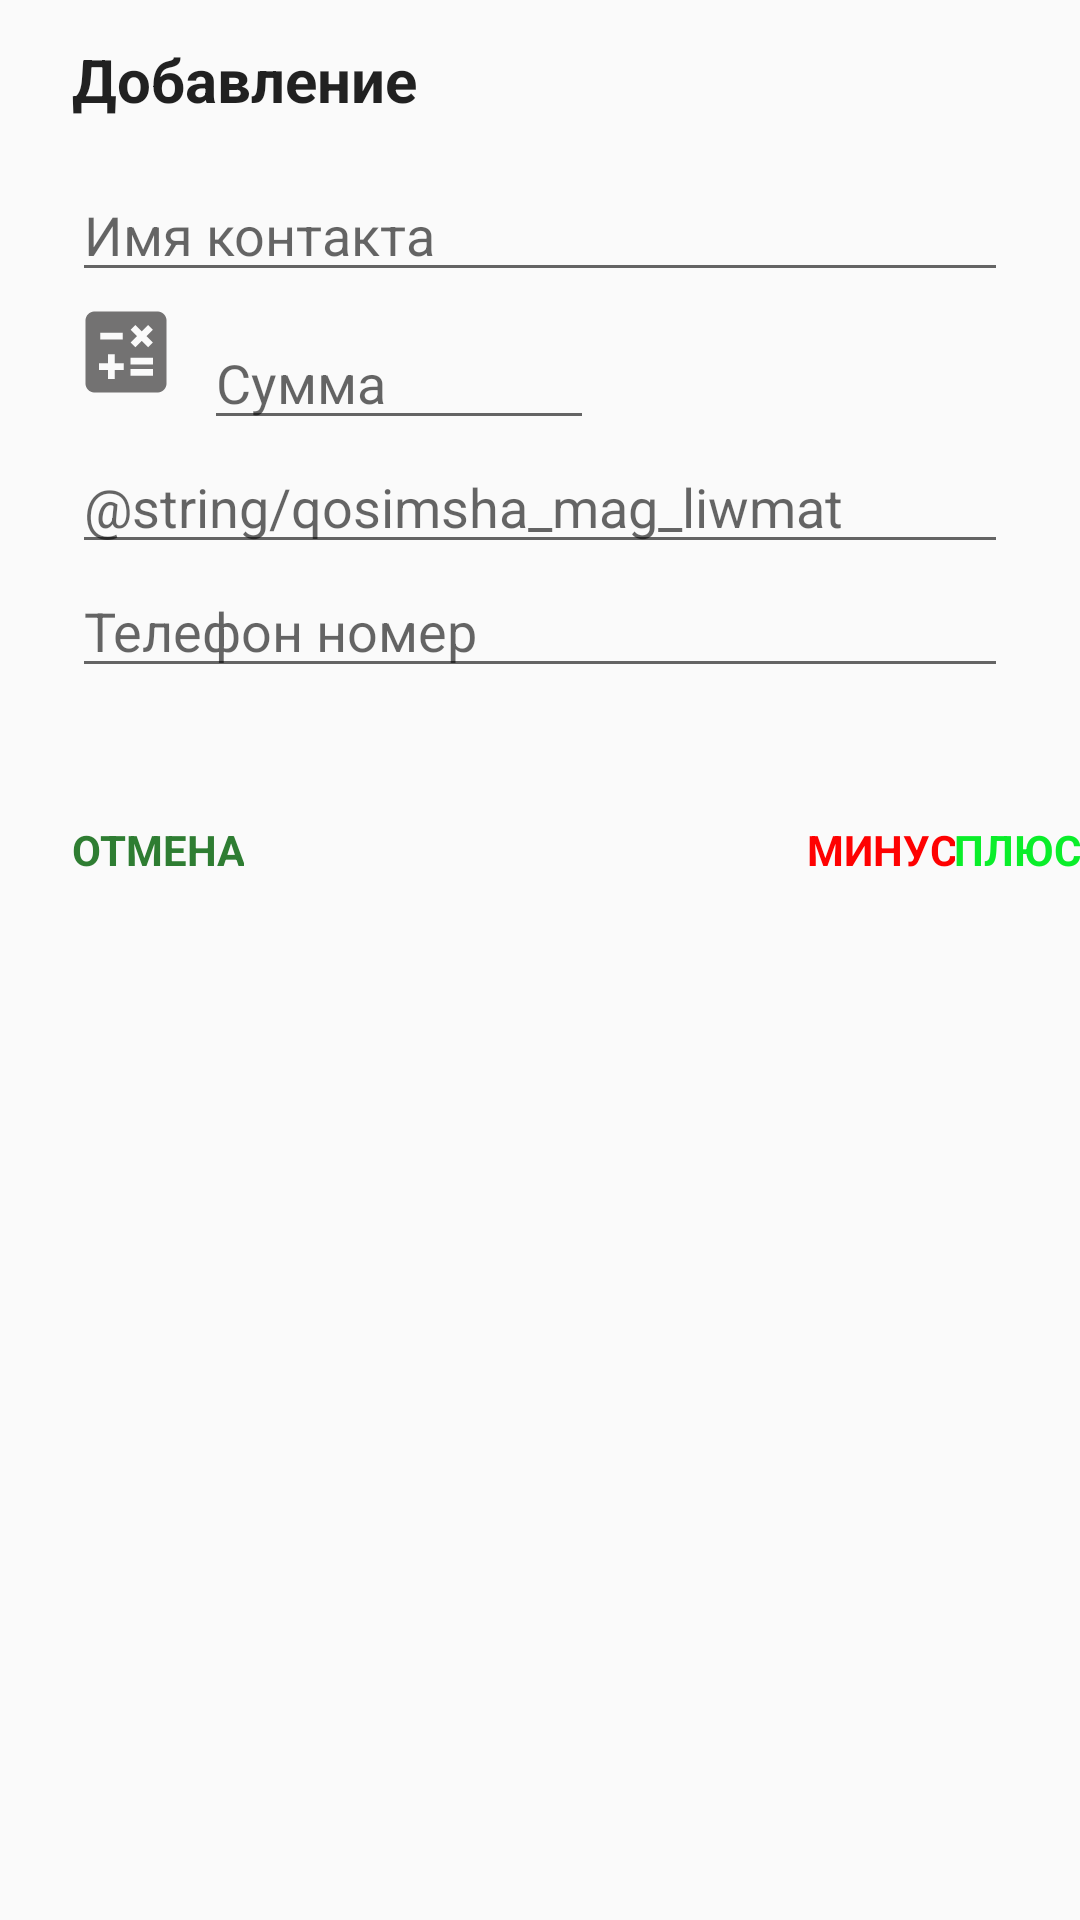

Named icons in this screenshot (1080px x 1920px) and their centers, (x=x, y=y):
calculate: (x=126, y=352)
